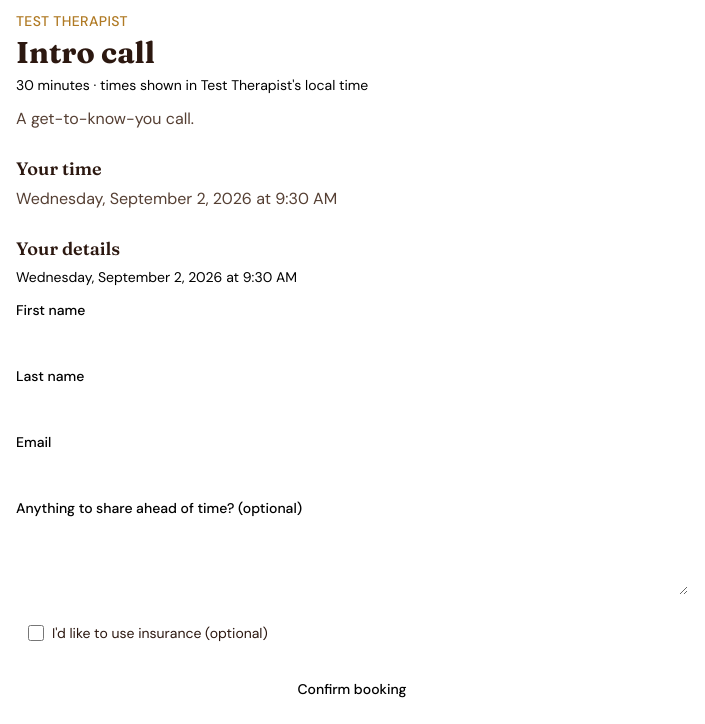
Test: PublicBookingPage — single-slot link › shows a held request when the practice reviews self-bookings
The width and height of the screenshot is (705, 724).
Type "Jane" into the field labelled "First name" at (352, 335), box x1=16 y1=317 x2=688 y2=353
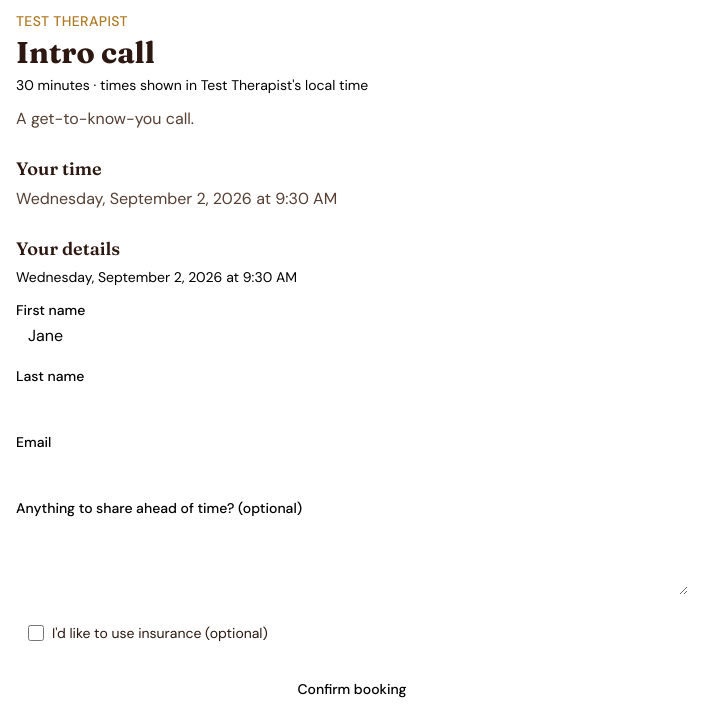
Type "Roe" into the field labelled "Last name" at (352, 401), box x1=16 y1=383 x2=688 y2=419
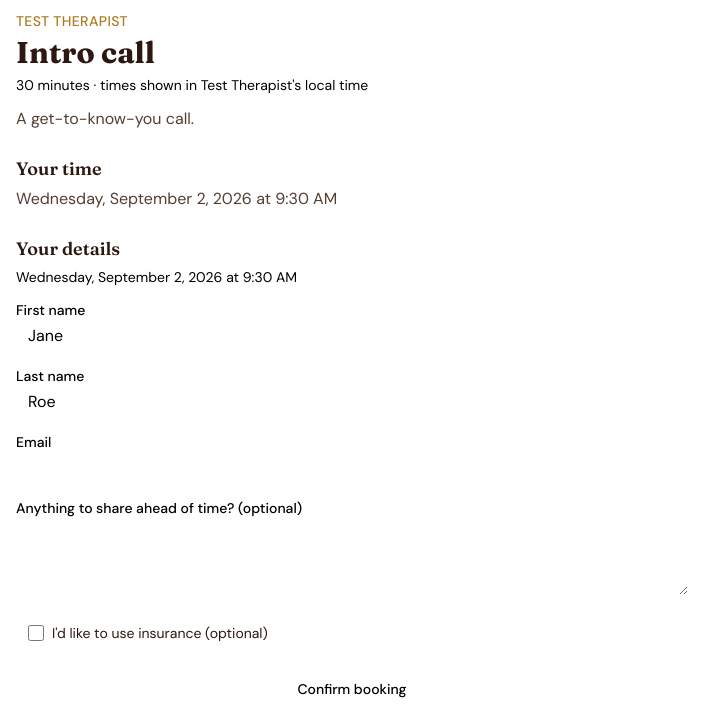
Type "jane@example.com" into the field labelled "Email" at (352, 467), box x1=16 y1=449 x2=688 y2=485
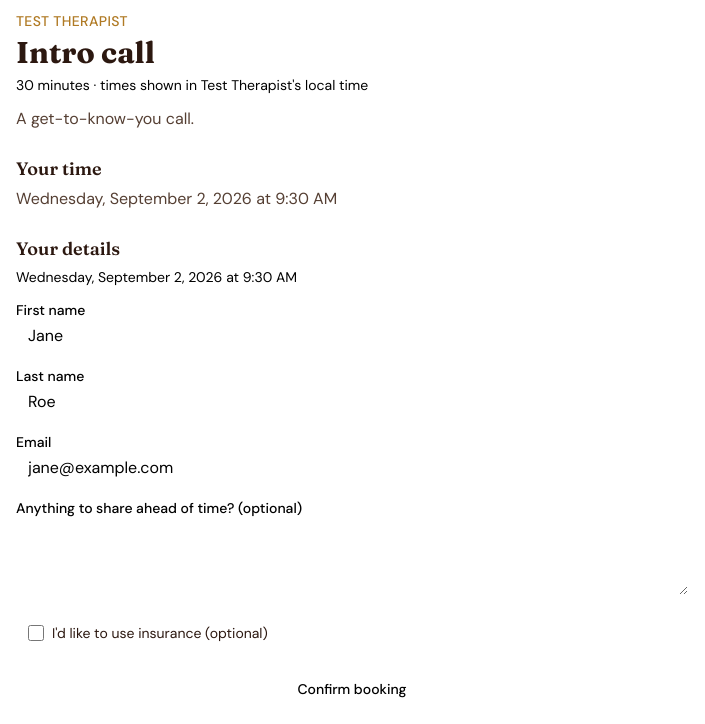
Click the button "Confirm booking" at (352, 689), box x1=16 y1=671 x2=688 y2=707
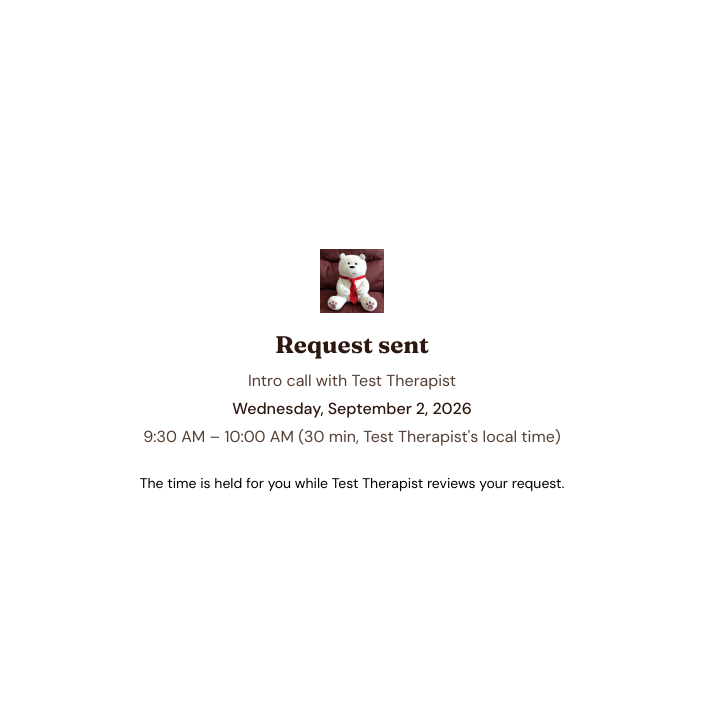
Check: the heading "Request sent" is shown, box x1=275 y1=330 x2=429 y2=359
Check: the text "held for you while Test Therapist reviews" is shown, box x1=128 y1=473 x2=576 y2=493
